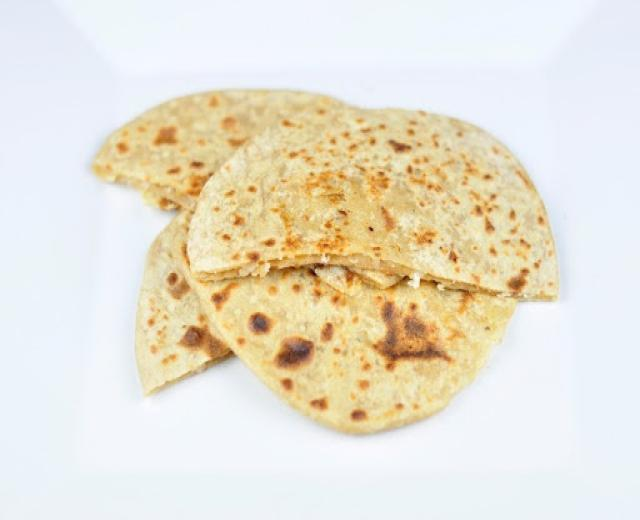chapati: (92, 92, 558, 432)
